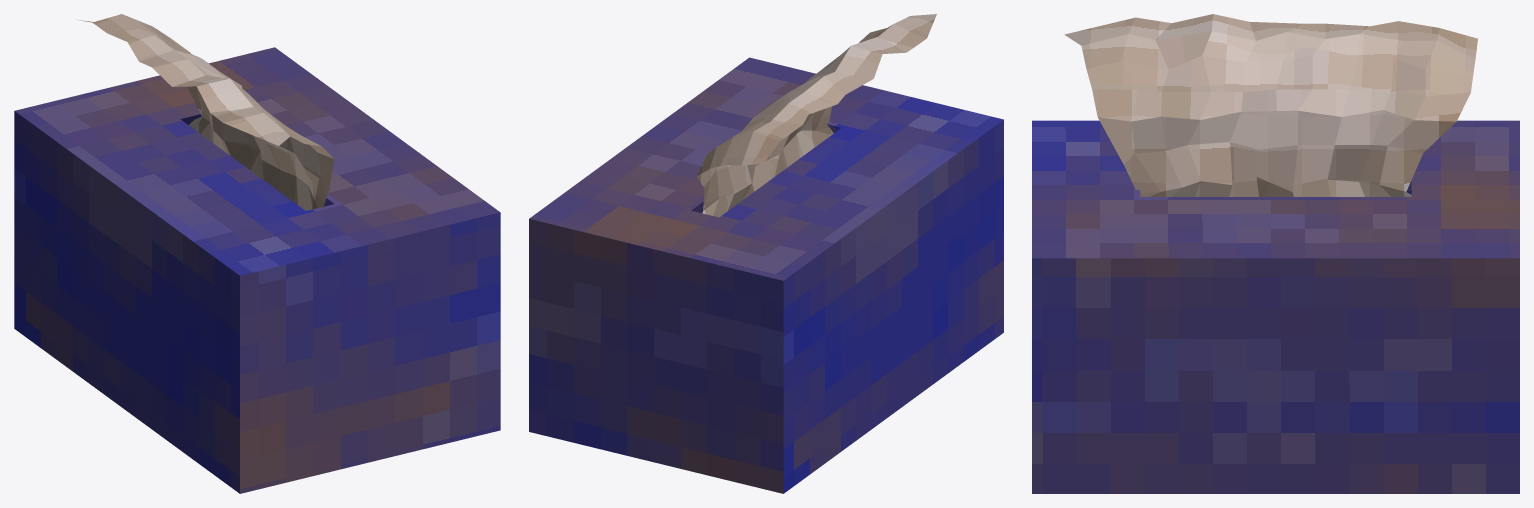
File: tissue-box.glb
3 renders of one model, left to right at view 1: azimuth 30°, elevation 25°; view 2: azimuth 150°, elevation 25°; view 3: azimuth 270°, elevation 25°, orthographic. The views are drawn at different scales.
Parts seen in each view (by area): view 1: Cube; view 2: Cube; view 3: Cube.
Part boxes in pixels (left/top/right/bottom): Cube: left=14, top=14, right=500, bottom=493; Cube: left=529, top=14, right=1003, bottom=493; Cube: left=1032, top=14, right=1519, bottom=493.
Bounding box in the file's own units: 0.2 × 0.2469 × 0.3.
Materials: 1 (1 with a texture image).
